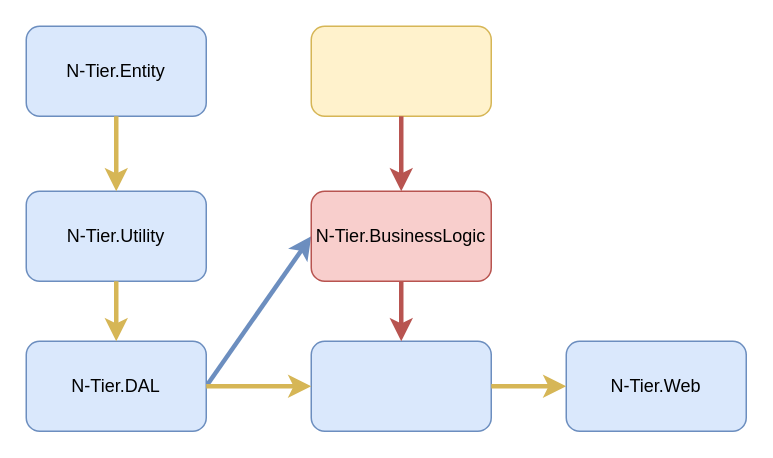
Some shapes in this 773 by 458 pixel diagram are drawn without their labels. The box of each missing label's shape, as (x1, y1, x2, y2) in pixels:
N-Tier.DTO: (310, 25, 491, 116)
N-Tier.IoC: (310, 340, 491, 431)
